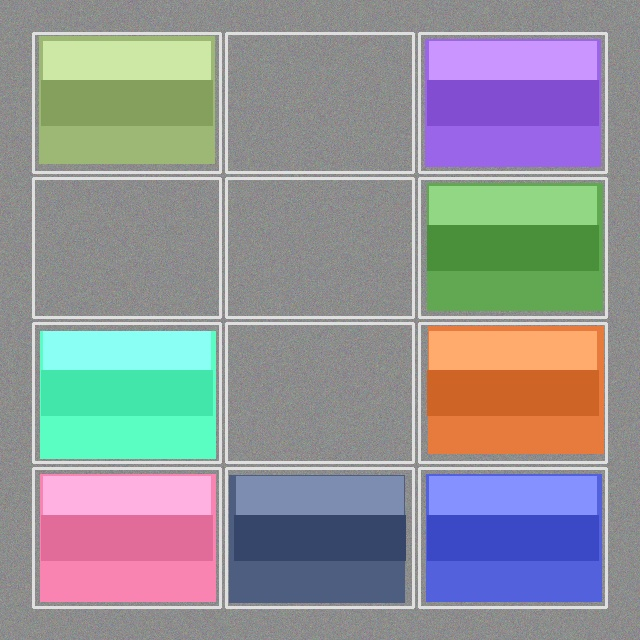space-empty: (228, 35, 411, 170), (35, 180, 218, 315), (228, 180, 411, 315), (228, 325, 411, 460)
space-occupied: (35, 35, 218, 170), (421, 35, 604, 170), (421, 180, 604, 315), (35, 325, 218, 460), (421, 325, 604, 460), (35, 470, 218, 605), (228, 470, 411, 605), (421, 470, 604, 605)
